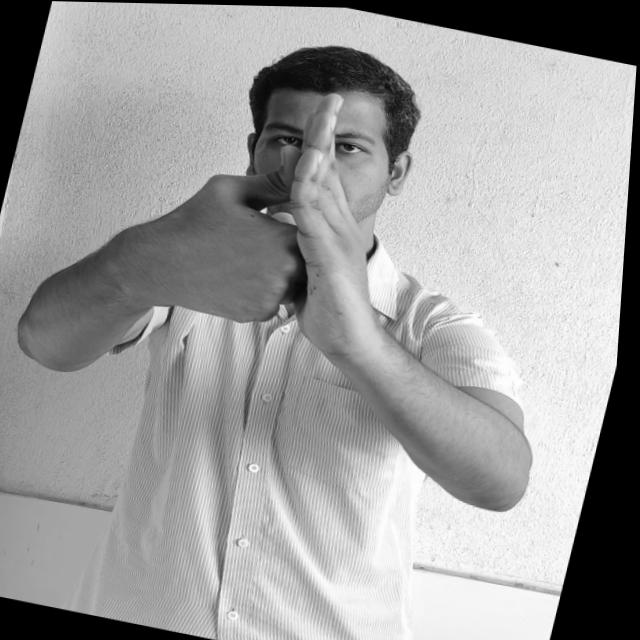Well Done: (146, 60, 423, 360)
